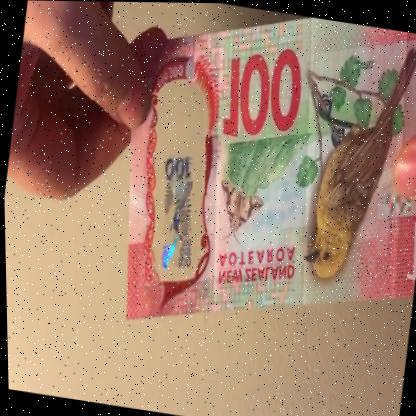100B: (145, 136, 206, 276)
